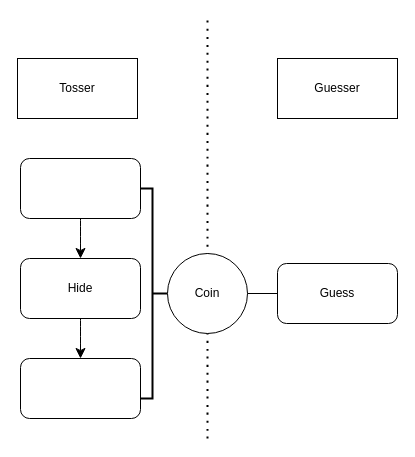
Image size: 415x457. Some labels were removed from this diagram. The box of each missing label's shape, as (x1, y1, x2, y2) in pixels:
Reveal: (20, 358, 140, 418)
Throw: (20, 158, 140, 218)
